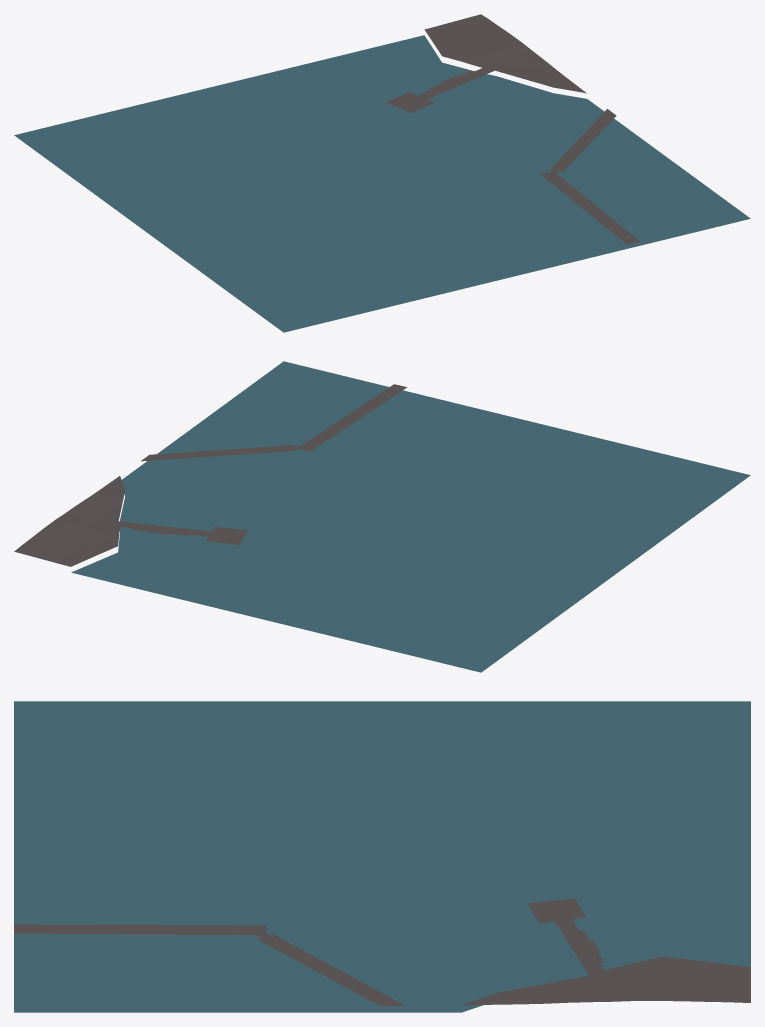
The picture shows the model from 3 angles, top to bottom: view 1: azimuth 30°, elevation 25°; view 2: azimuth 150°, elevation 25°; view 3: azimuth 270°, elevation 25°; orthographic projection. The views are drawn at different scales.
Visible parts, largest first — view 1: c_p04_p07; view 2: c_p04_p07; view 3: c_p04_p07.
Boxes of the visible parts, x1=… form: c_p04_p07: x1=14, y1=14, x2=750, y2=332; c_p04_p07: x1=14, y1=361, x2=750, y2=672; c_p04_p07: x1=14, y1=701, x2=750, y2=1012.
Bounding box in the file's own units: 128 × 2.26 × 128.
